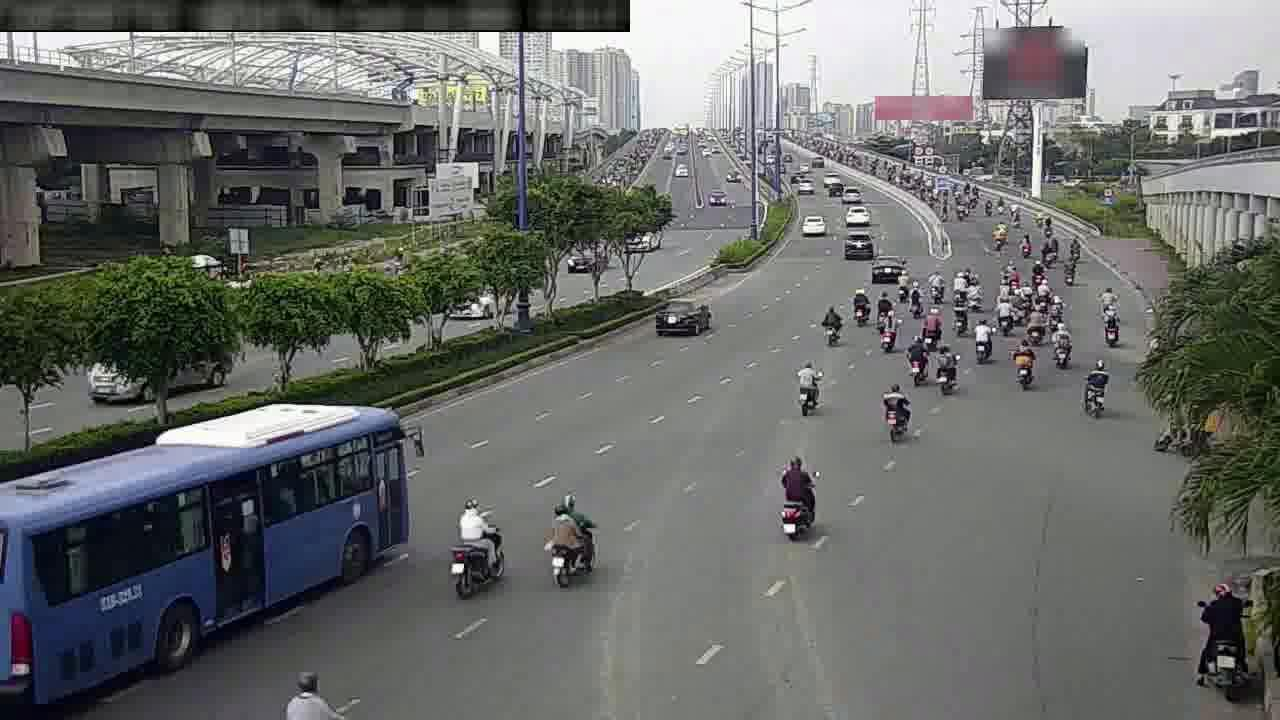14: (0, 404, 413, 714)
container: (652, 290, 713, 340), (865, 250, 907, 283), (838, 226, 876, 259)
motorbike: (1192, 566, 1256, 701), (445, 492, 506, 600), (541, 490, 601, 595), (770, 450, 822, 541), (875, 380, 914, 445), (790, 353, 825, 419), (1075, 358, 1113, 415), (1007, 337, 1040, 390), (930, 342, 961, 392), (902, 336, 932, 387), (1046, 322, 1077, 370), (968, 318, 998, 365), (817, 300, 846, 348), (1095, 305, 1126, 348), (873, 310, 900, 355), (946, 292, 972, 334), (848, 284, 873, 326), (991, 292, 1017, 332), (919, 306, 945, 346), (1092, 277, 1119, 314), (1021, 305, 1047, 343), (923, 267, 948, 305), (1041, 294, 1066, 331), (903, 283, 927, 320), (892, 269, 917, 303), (946, 265, 968, 303), (1056, 256, 1079, 290), (1013, 278, 1034, 312), (996, 259, 1018, 291), (875, 287, 895, 320)
